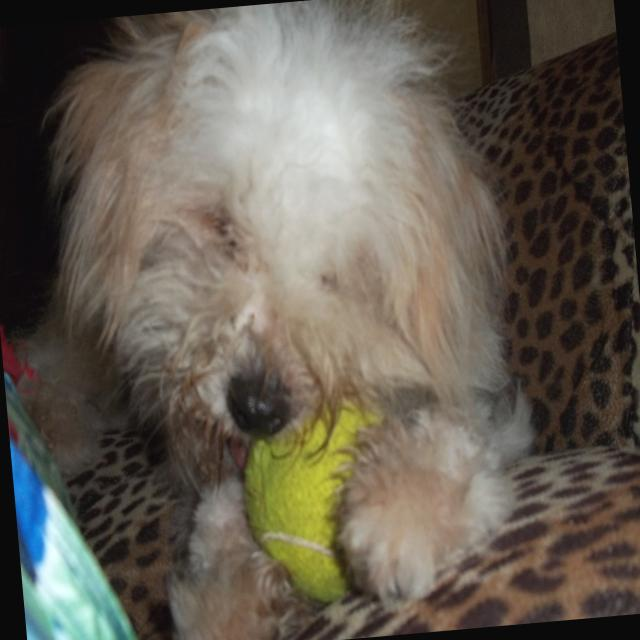Tennis Ball: (236, 394, 391, 610)
